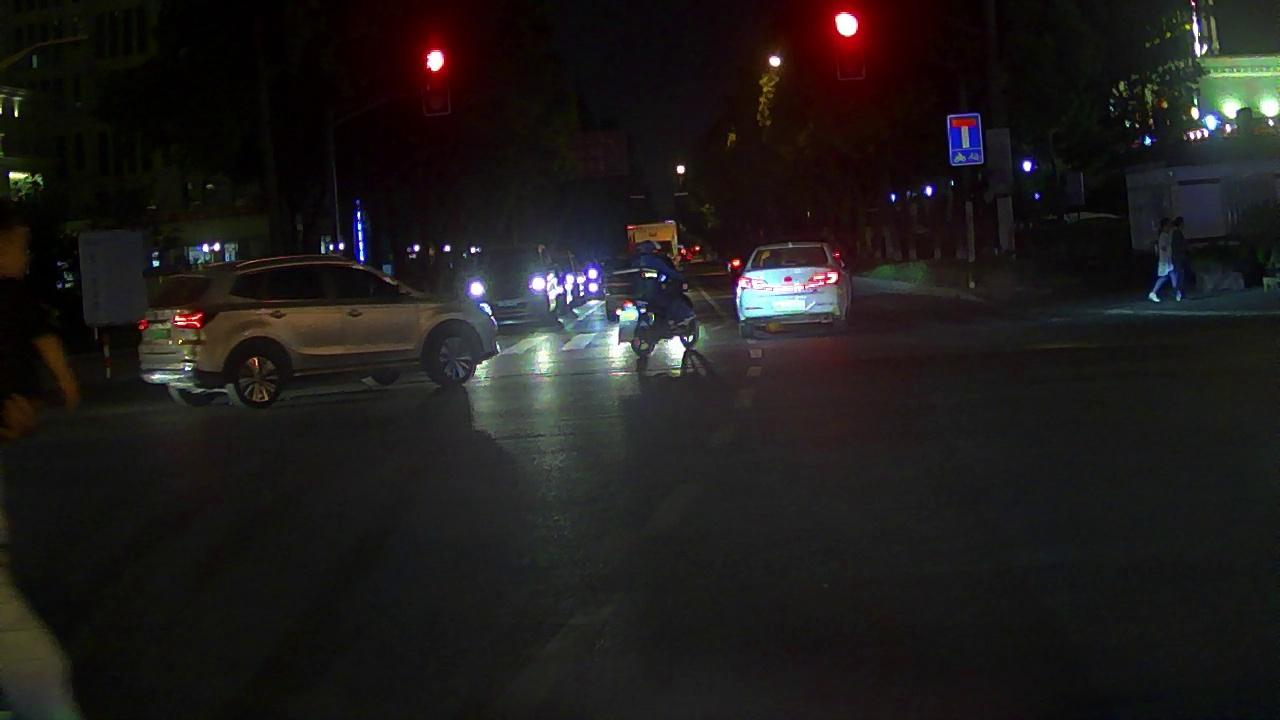traffic_light: (835, 10, 860, 78), (423, 46, 449, 110)
